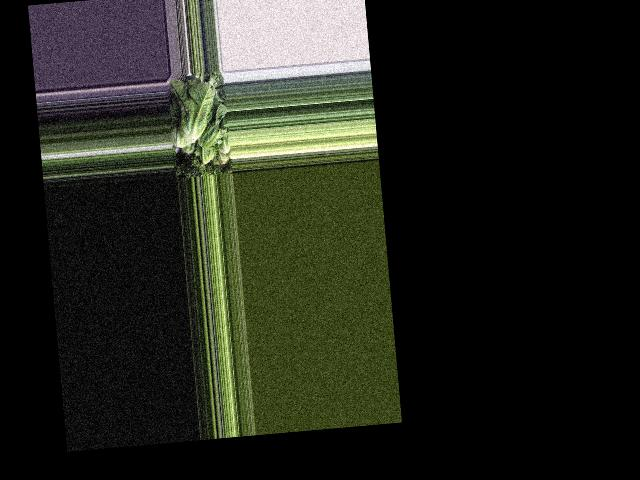lettuce: (195, 101, 228, 150)
